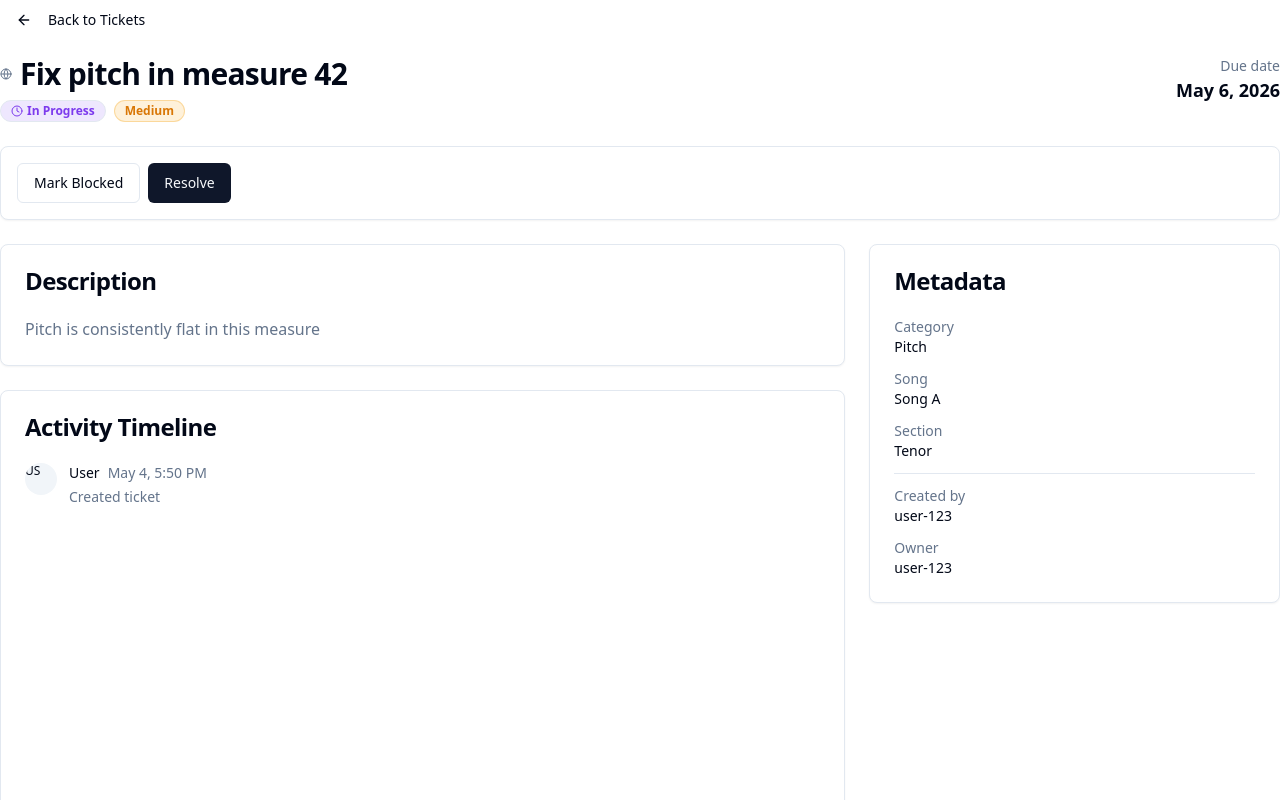
Test: TicketDetailPage › Happy Path - Full Lifecycle › opens modal when Resolve is clicked and requires note
The width and height of the screenshot is (1280, 800).
What coordinates should you click on to do the following:
click the button "Resolve"
I would click on:
 (190, 183)
Its box is [148,163,231,203].
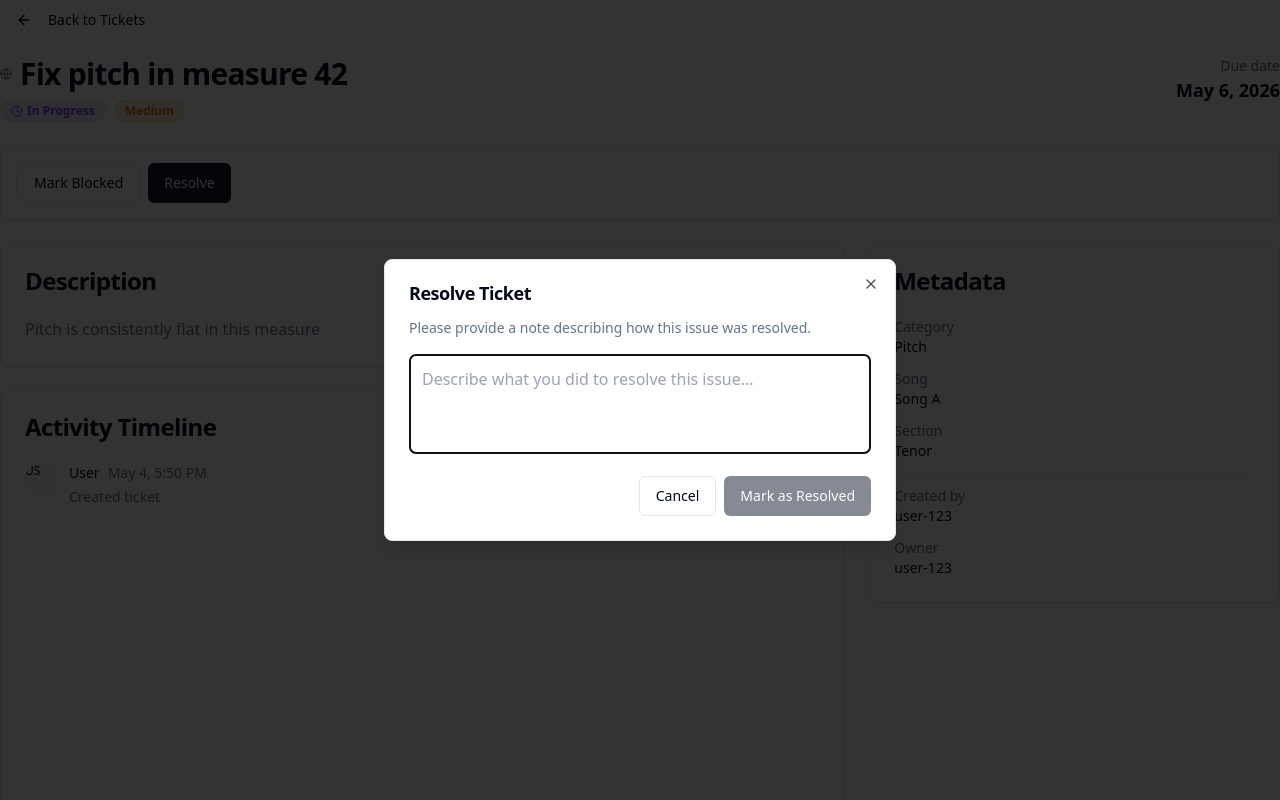
Expected: the heading "Resolve Ticket" is shown, [409,281,531,305]
Expected: the button "Mark as Resolved" is disabled, [724,476,871,516]
